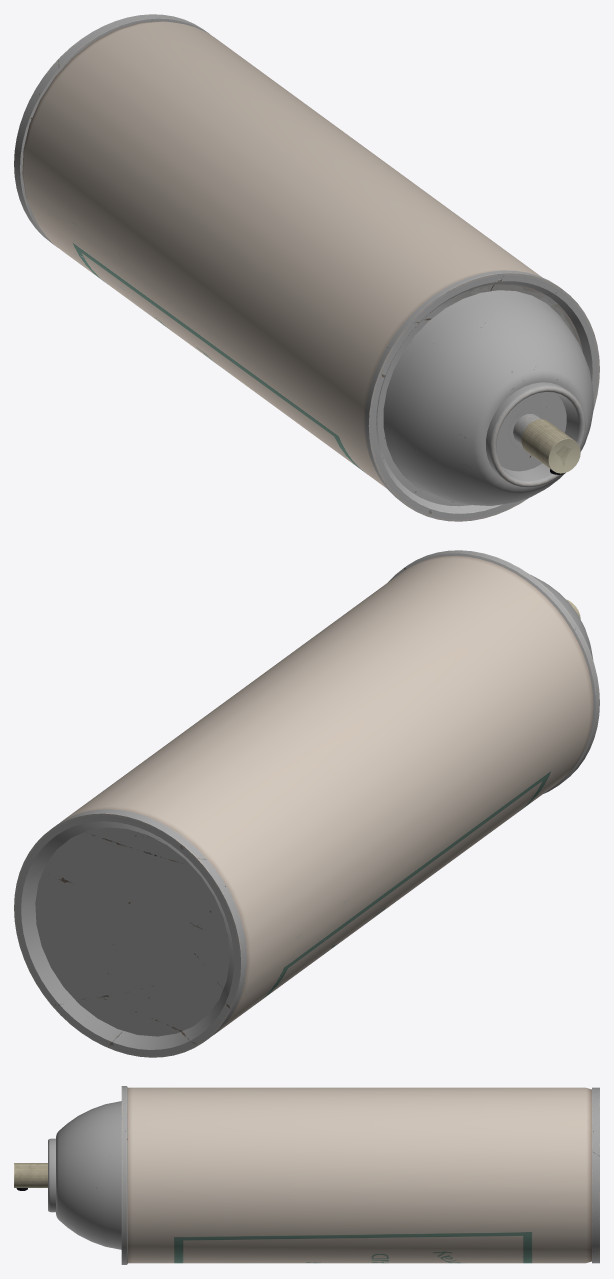
The model's file is first_aid_spray.fbx.
3 views of the same model, one above another, from view 1: azimuth 30°, elevation 25°; view 2: azimuth 150°, elevation 25°; view 3: azimuth 270°, elevation 25° (orthographic). The views are drawn at different scales.
Visible parts, largest first — view 1: defaultMaterial_node_2, defaultMaterial_node_1, defaultMaterial_node; view 2: defaultMaterial_node_2, defaultMaterial_node_1; view 3: defaultMaterial_node_2, defaultMaterial_node_1, defaultMaterial_node.
Boxes of the visible parts, <box> form: defaultMaterial_node_2: <box>22,21,541,488</box>; defaultMaterial_node_1: <box>14,14,599,521</box>; defaultMaterial_node: <box>521,419,580,473</box>; defaultMaterial_node_2: <box>60,555,593,1034</box>; defaultMaterial_node_1: <box>14,550,599,1057</box>; defaultMaterial_node_2: <box>127,1087,591,1263</box>; defaultMaterial_node_1: <box>48,1086,599,1264</box>; defaultMaterial_node: <box>14,1163,47,1187</box>.
Size of the model in its own units: 0.6108 by 0.6108 by 2.
4 materials, 4 textured.
